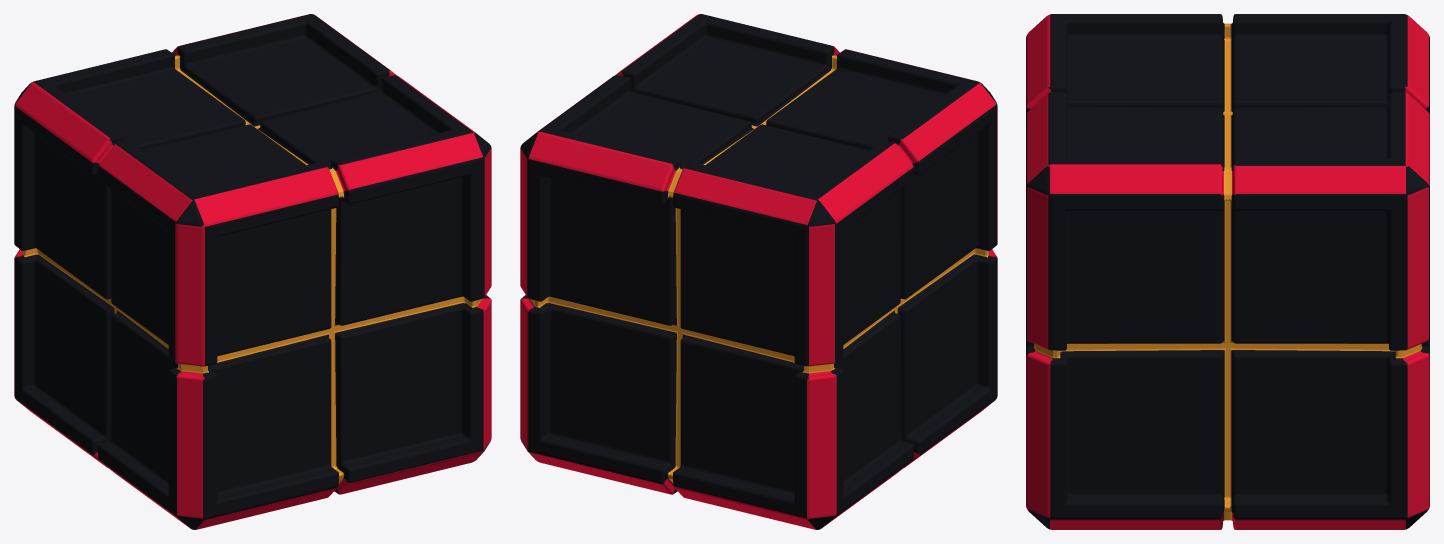
Rendered from sci-fi-box.fbx.
3 views of the same model, side by side, from view 1: azimuth 30°, elevation 25°; view 2: azimuth 150°, elevation 25°; view 3: azimuth 270°, elevation 25° (orthographic). The views are drawn at different scales.
Parts seen in each view (by area): view 1: Cube; view 2: Cube; view 3: Cube.
Part boxes in pixels (x1,y1,x2,y2): Cube: (14, 14, 491, 529); Cube: (520, 14, 997, 529); Cube: (1026, 14, 1429, 529).
Size of the model in its own units: 100 by 100 by 100.
1 material, 1 textured.
